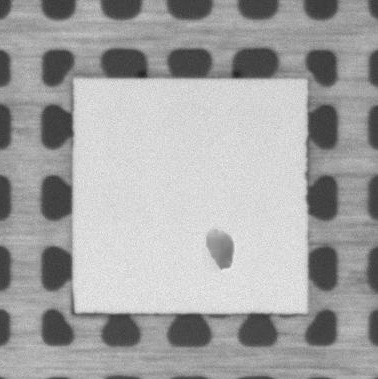DIE_INK: (204, 226, 235, 270)
